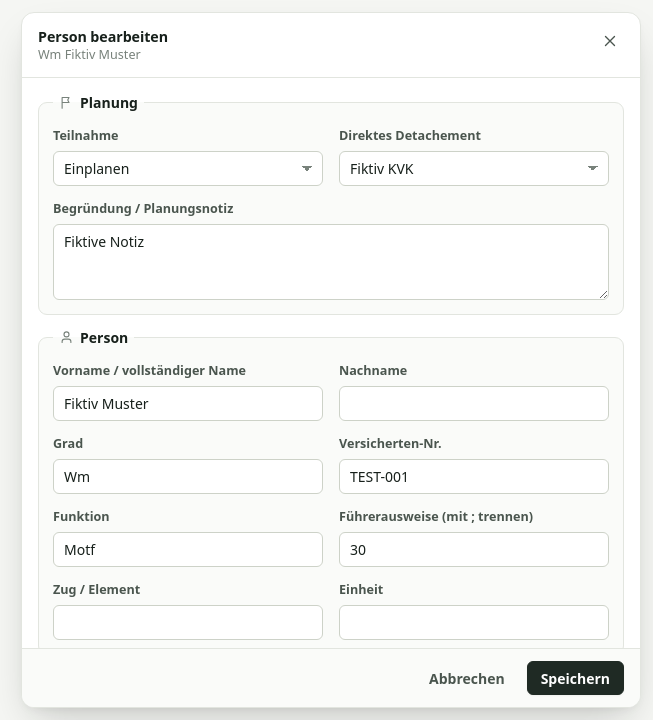
it: person editing alongside a live planning board › blocks conflicting assignment changes rather than clearing a newer board decision
This screenshot has width=653, height=720.
Select "Noch nicht zugeteilt" in the dropdown labelled "Direktes Detachement" at (474, 168), box [339, 151, 609, 186]
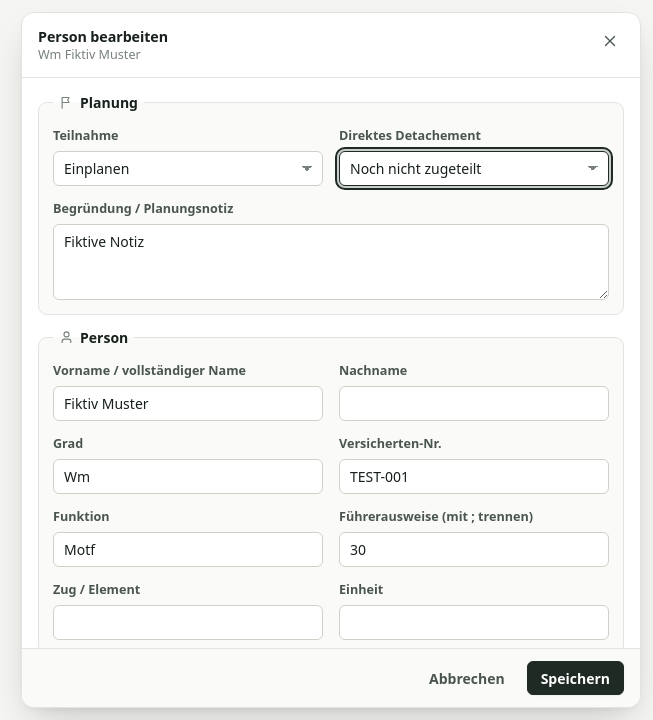
Click the button "Speichern" at (575, 678), box [527, 661, 624, 695]
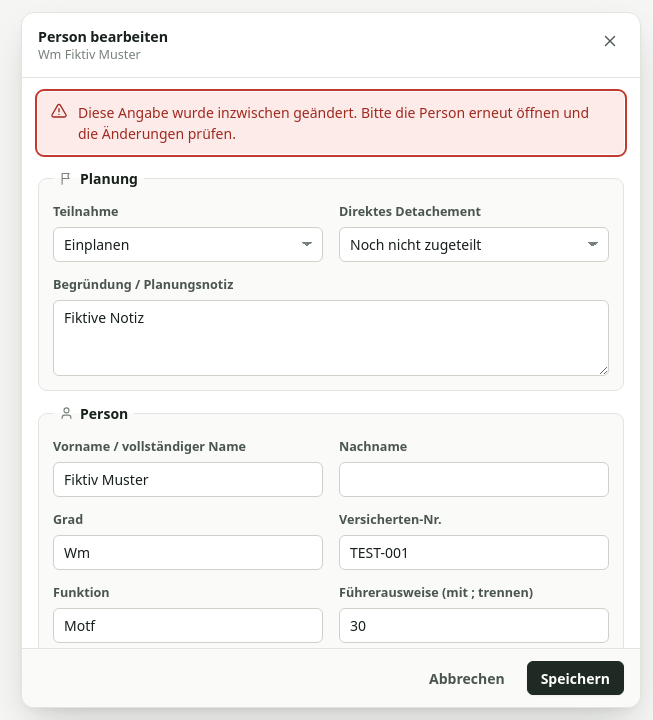
Now the message shows "inzwischen geändert", box [78, 103, 589, 143]
